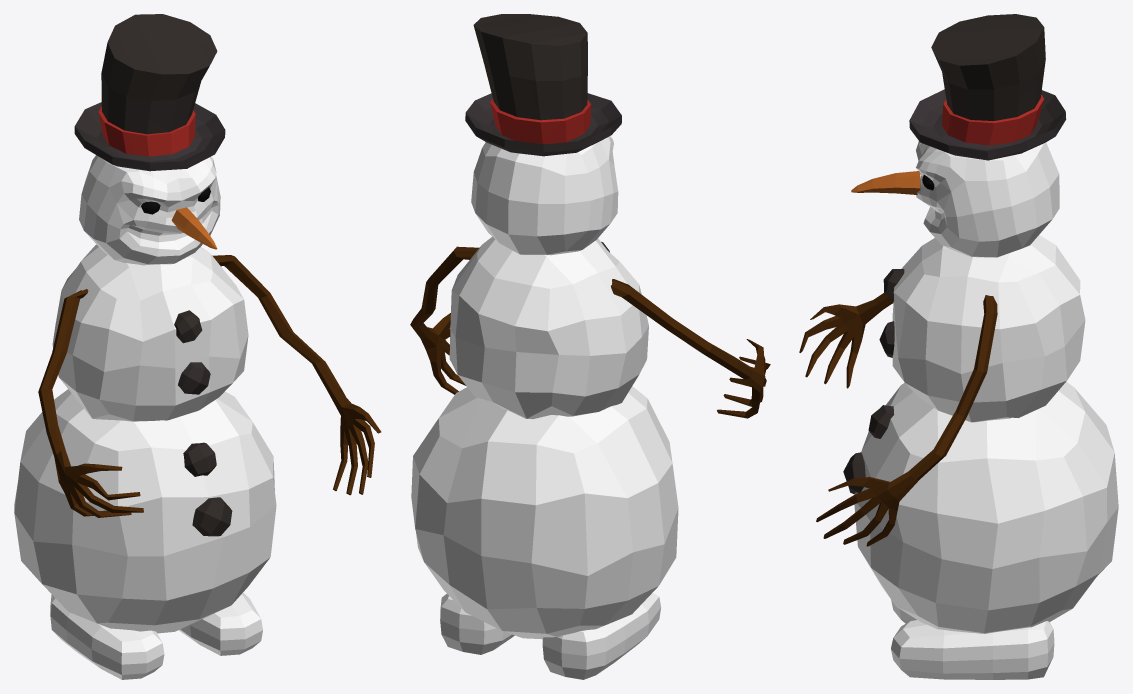
File: SM_Snowman_weak_destruction.fbx
3 views of the same model, side by side, from view 1: azimuth 30°, elevation 25°; view 2: azimuth 150°, elevation 25°; view 3: azimuth 270°, elevation 25° (orthographic). The views are drawn at different scales.
Visible parts, largest first — view 1: SK_Snowman_weak_body_bottom, SK_Snowman_weak_body_top, SK_Snowman_weak_hat, SK_Snowman_weak_head, SK_Snowman_weak_hand_R, SK_Snowman_weak_hand_L, SK_Snowman_weak_foot_R, SK_Snowman_weak_foot_L; view 2: SK_Snowman_weak_body_bottom, SK_Snowman_weak_body_top, SK_Snowman_weak_hat, SK_Snowman_weak_head, SK_Snowman_weak_foot_R, SK_Snowman_weak_hand_R, SK_Snowman_weak_hand_L, SK_Snowman_weak_foot_L; view 3: SK_Snowman_weak_body_bottom, SK_Snowman_weak_body_top, SK_Snowman_weak_hat, SK_Snowman_weak_head, SK_Snowman_weak_foot_L, SK_Snowman_weak_hand_L, SK_Snowman_weak_hand_R.
Part boxes in pixels (x1,y1,x2,y2): SK_Snowman_weak_body_bottom: [14, 389, 276, 633]; SK_Snowman_weak_body_top: [52, 244, 248, 421]; SK_Snowman_weak_hat: [74, 14, 225, 171]; SK_Snowman_weak_head: [79, 155, 220, 265]; SK_Snowman_weak_hand_R: [38, 289, 143, 517]; SK_Snowman_weak_hand_L: [212, 255, 381, 495]; SK_Snowman_weak_foot_R: [50, 594, 164, 679]; SK_Snowman_weak_foot_L: [179, 593, 262, 655]; SK_Snowman_weak_body_bottom: [411, 386, 678, 639]; SK_Snowman_weak_body_top: [449, 236, 648, 419]; SK_Snowman_weak_hat: [465, 14, 621, 156]; SK_Snowman_weak_head: [471, 136, 618, 255]; SK_Snowman_weak_foot_R: [542, 593, 661, 679]; SK_Snowman_weak_hand_R: [611, 279, 770, 418]; SK_Snowman_weak_hand_L: [410, 246, 479, 394]; SK_Snowman_weak_foot_L: [440, 594, 514, 654]; SK_Snowman_weak_body_bottom: [843, 382, 1118, 633]; SK_Snowman_weak_body_top: [879, 235, 1085, 422]; SK_Snowman_weak_hat: [909, 14, 1066, 160]; SK_Snowman_weak_head: [851, 141, 1059, 257]; SK_Snowman_weak_foot_L: [891, 620, 1054, 679]; SK_Snowman_weak_hand_L: [816, 295, 997, 546]; SK_Snowman_weak_hand_R: [799, 293, 893, 388].
Size of the model in its own units: 0.8823 by 1.65 by 0.7644.
